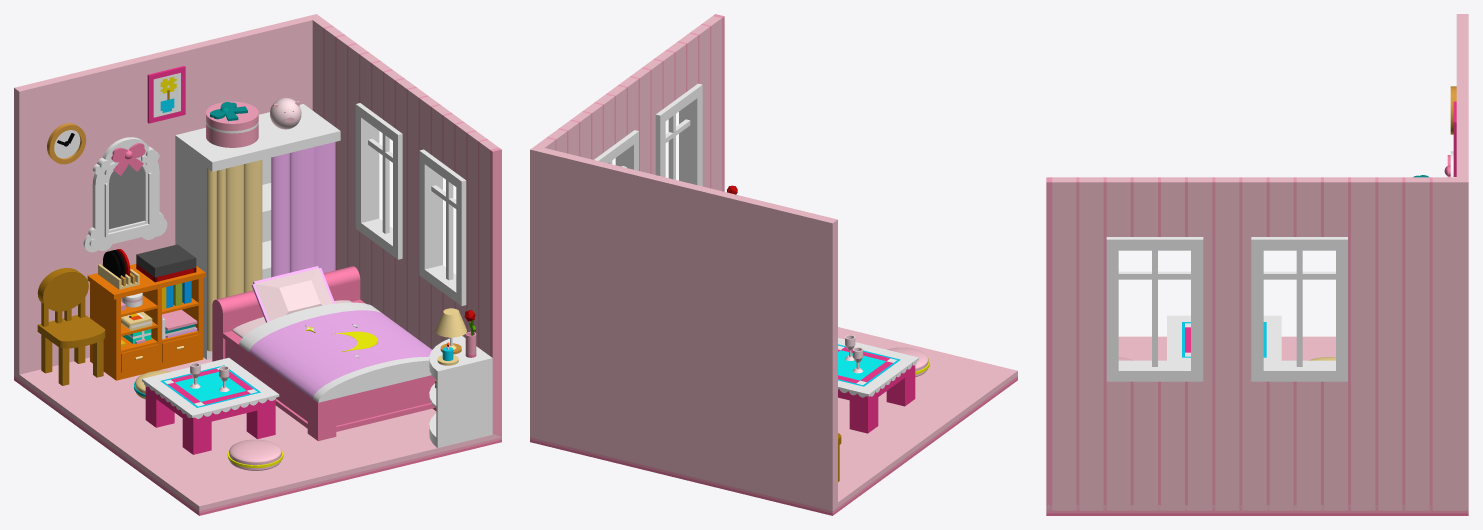
3 views of the same model, side by side, from view 1: azimuth 30°, elevation 25°; view 2: azimuth 150°, elevation 25°; view 3: azimuth 270°, elevation 25° (orthographic). The views are drawn at different scales.
Visible parts, largest first — view 1: box.019, box.020, halfCylinder.046, box.075, box.283, box.069, box.023, halfCylinder.021, halfCylinder.022, box.037, box.050, truncatedPyramid4.001 (+69 smaller); view 2: box.019, box.020, box.054, box.024, box.124, box.026, box.022, box.021, box.037, box.249, box.261, box.250 (+9 smaller); view 3: box.054, box.026, box.048, box.052, box.050, box.037, box.024, box.020, box.035, box.039, box.019, box.057 (+41 smaller).
Part boxes in pixels (x1=…): box.019: x1=14, y1=14, x2=321, y2=378; box.020: x1=14, y1=351, x2=501, y2=510; halfCylinder.046: x1=249, y1=310, x2=431, y2=398; box.075: x1=175, y1=104, x2=340, y2=171; box.283: x1=436, y1=365, x2=490, y2=447; box.069: x1=175, y1=145, x2=211, y2=359; box.023: x1=490, y1=148, x2=501, y2=437; halfCylinder.021: x1=290, y1=147, x2=314, y2=272; halfCylinder.022: x1=314, y1=142, x2=335, y2=273; box.037: x1=408, y1=87, x2=427, y2=339; box.050: x1=336, y1=35, x2=355, y2=269; truncatedPyramid4.001: x1=255, y1=268, x2=332, y2=321; box.019: x1=530, y1=145, x2=837, y2=510; box.020: x1=536, y1=327, x2=1017, y2=510; box.054: x1=530, y1=138, x2=555, y2=436; box.024: x1=702, y1=16, x2=721, y2=190; box.124: x1=679, y1=83, x2=702, y2=186; box.026: x1=690, y1=24, x2=709, y2=188; box.022: x1=530, y1=378, x2=1017, y2=515; box.021: x1=530, y1=376, x2=1017, y2=513; box.037: x1=631, y1=68, x2=650, y2=173; box.249: x1=849, y1=392, x2=878, y2=433; box.261: x1=838, y1=350, x2=885, y2=380; box.250: x1=886, y1=365, x2=915, y2=406; box.054: x1=1432, y1=177, x2=1468, y2=510; box.026: x1=1079, y1=177, x2=1103, y2=510; box.048: x1=1351, y1=177, x2=1375, y2=510; box.052: x1=1405, y1=177, x2=1429, y2=510; box.050: x1=1378, y1=177, x2=1402, y2=510; box.037: x1=1215, y1=177, x2=1239, y2=510; box.024: x1=1052, y1=177, x2=1076, y2=510; box.020: x1=1046, y1=336, x2=1468, y2=510; box.035: x1=1200, y1=177, x2=1212, y2=510; box.039: x1=1242, y1=177, x2=1254, y2=510; box.019: x1=1456, y1=14, x2=1468, y2=510; box.057: x1=1296, y1=381, x2=1320, y2=510.
Bounding box in the file's own units: 3.35 × 3.05 × 3.5.
